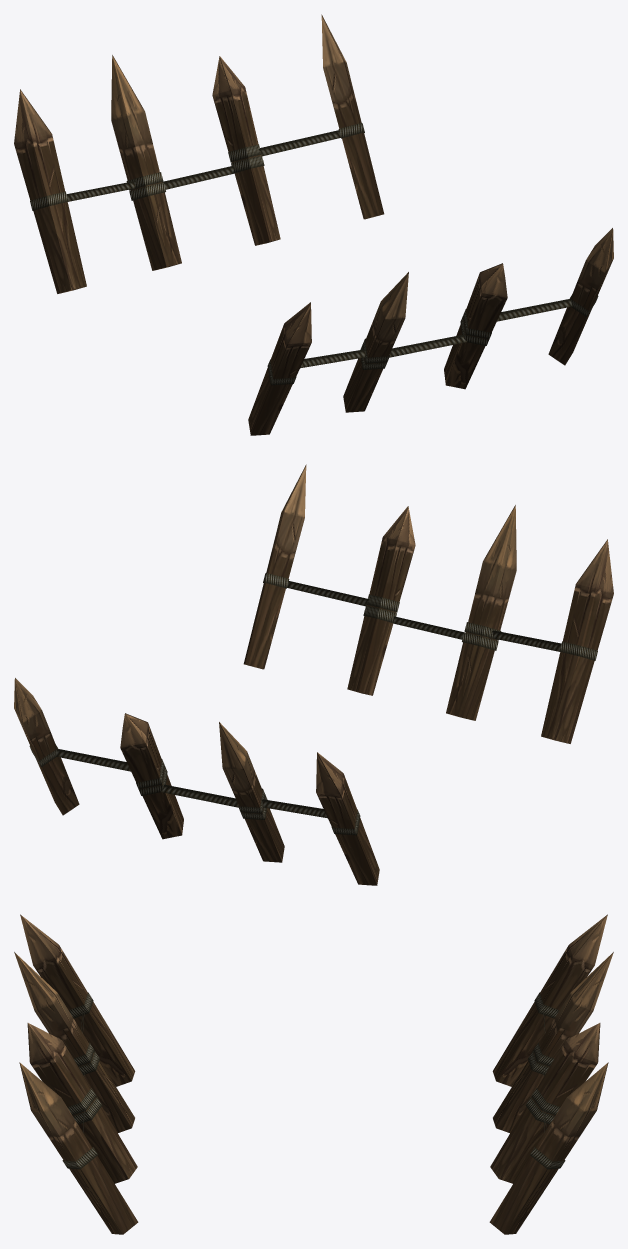
Rendered from mobile_scaffolding_07.fbx.
The picture shows the model from 3 angles, top to bottom: view 1: azimuth 30°, elevation 25°; view 2: azimuth 150°, elevation 25°; view 3: azimuth 270°, elevation 25°; orthographic projection.
Parts seen in each view (by area): view 1: mobile_scaffolding_07; view 2: mobile_scaffolding_07; view 3: mobile_scaffolding_07.
Part boxes in pixels (x1,y1,x2,y2): mobile_scaffolding_07: (14, 14, 613, 435); mobile_scaffolding_07: (14, 464, 613, 885); mobile_scaffolding_07: (14, 914, 613, 1234).
Bounding box in the file's own units: 243 × 127 × 379.
